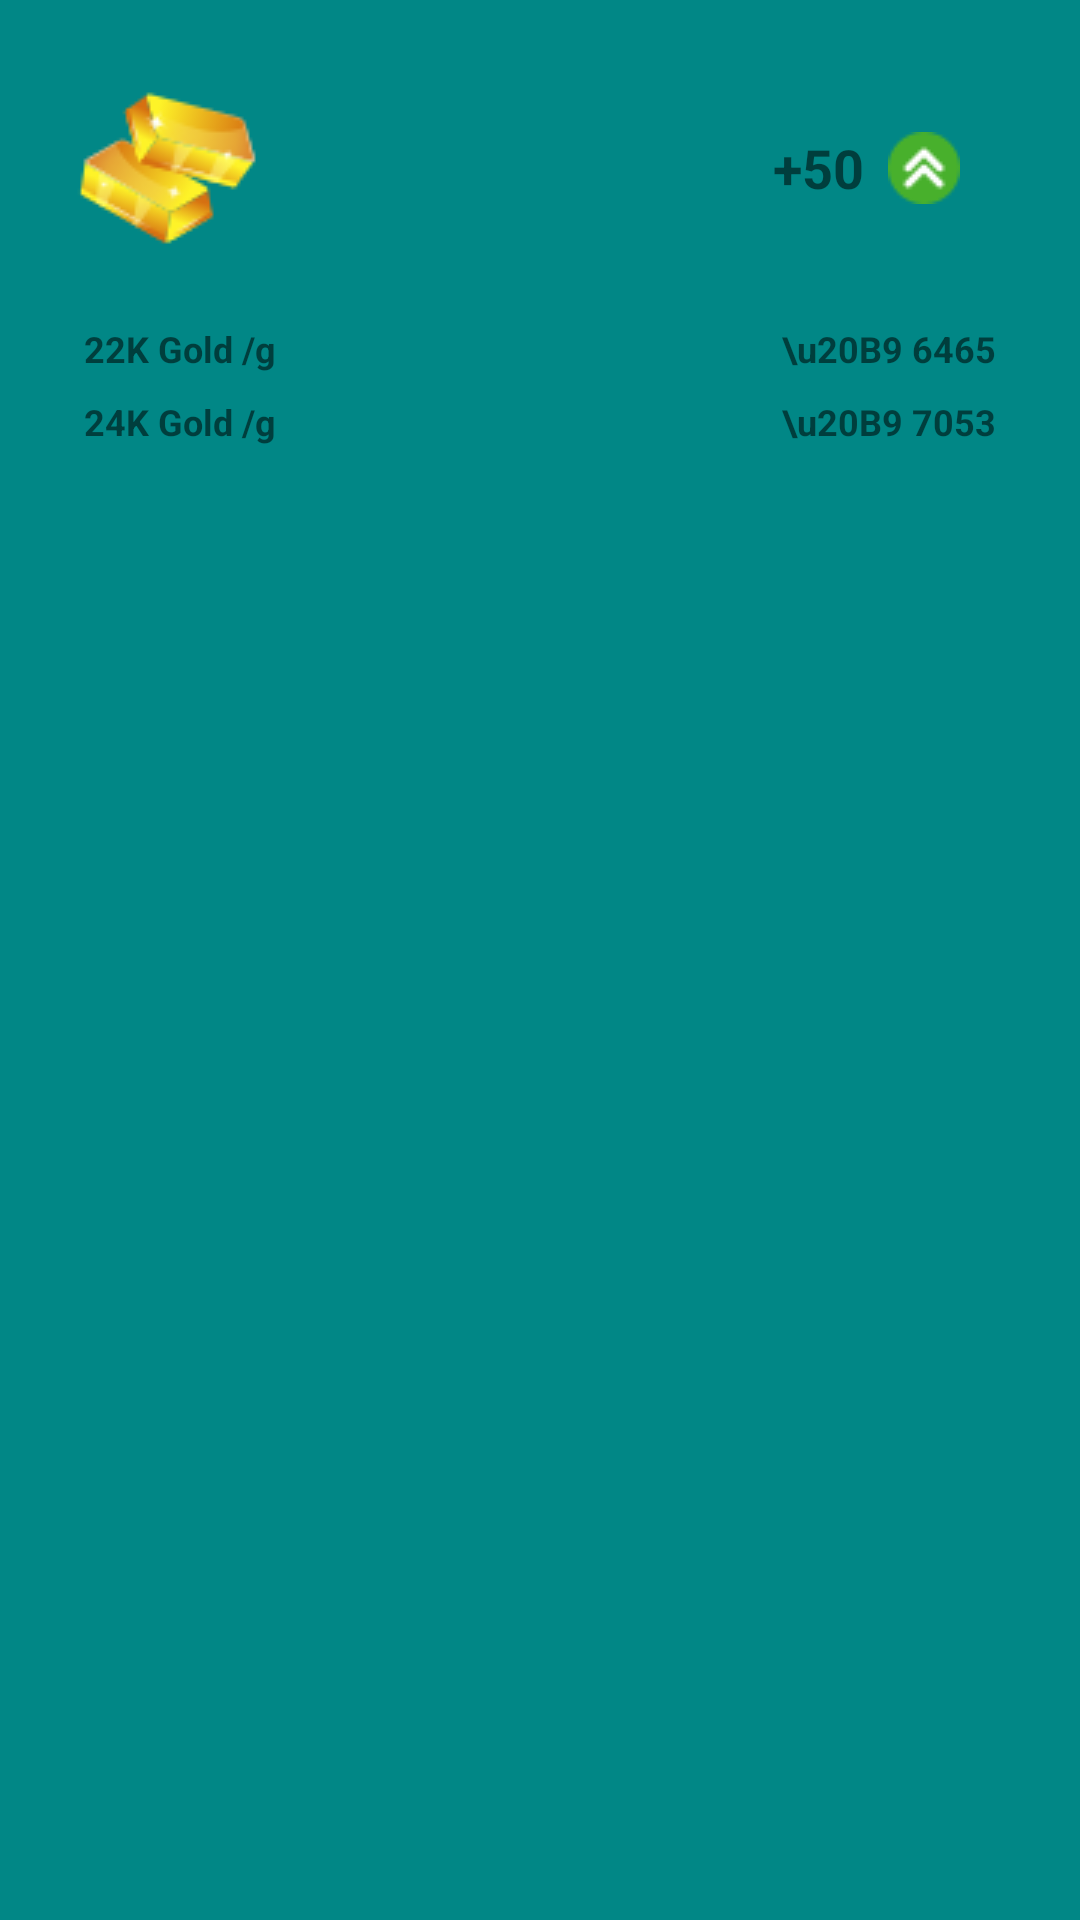

Icons on this 1080*1920 Android screen, each with its box as (x1=x1, y1=y1, x2=x2, y2=y2):
gold bar: (x1=80, y1=92, x2=256, y2=244)
